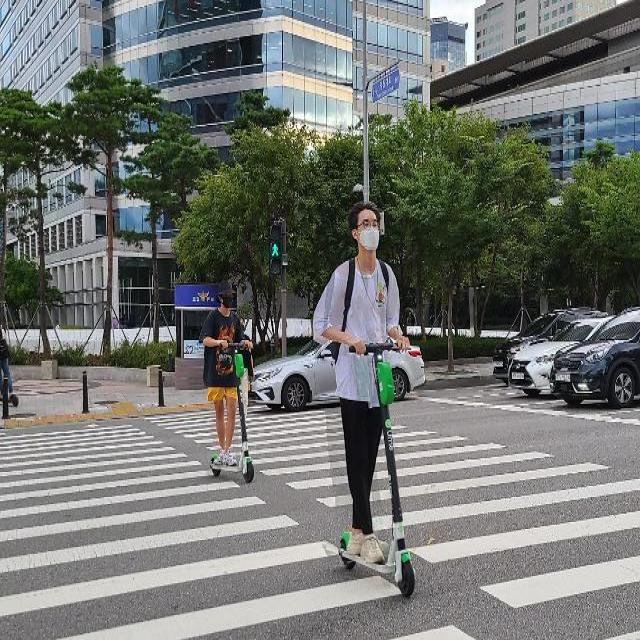non-helmet: (302, 185, 428, 603), (183, 270, 270, 500)
